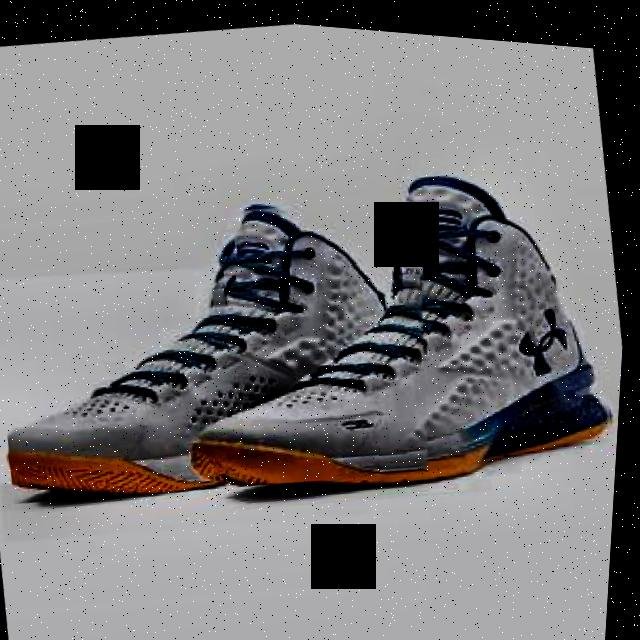shoe: (171, 126, 635, 521), (0, 157, 463, 531)
